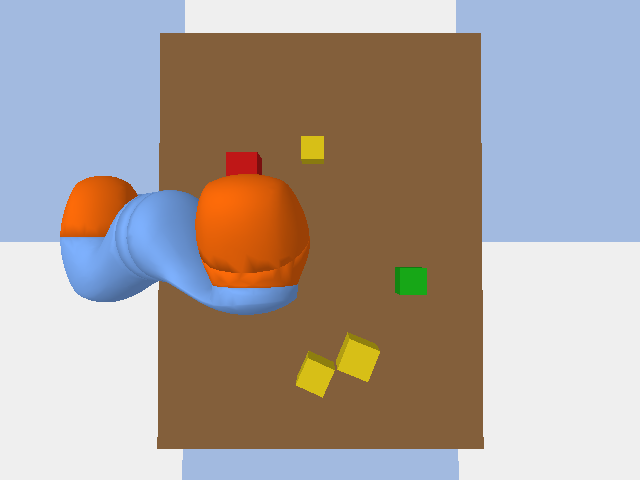green_obj: (395, 267, 426, 294)
red_obj: (226, 152, 261, 175)
yellow_obj: (336, 332, 379, 381), (296, 351, 334, 397), (301, 136, 323, 163)
